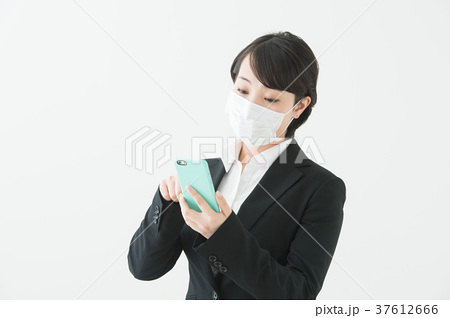mask: (219, 93, 284, 146)
